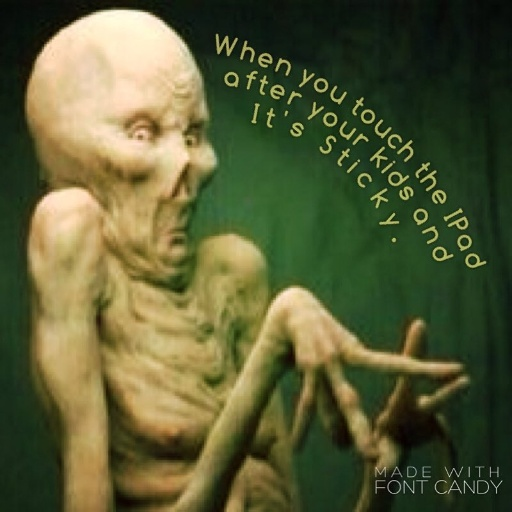hand: (288, 295, 464, 451)
